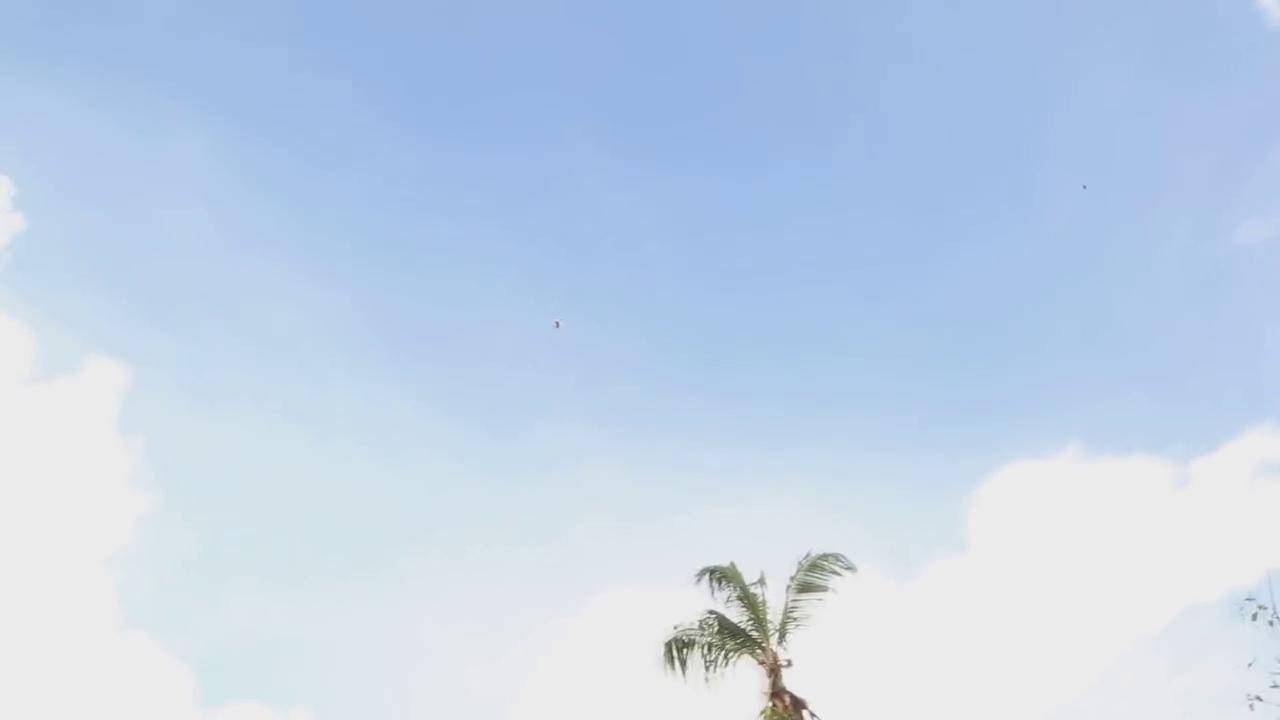drone: (550, 318, 564, 331)
